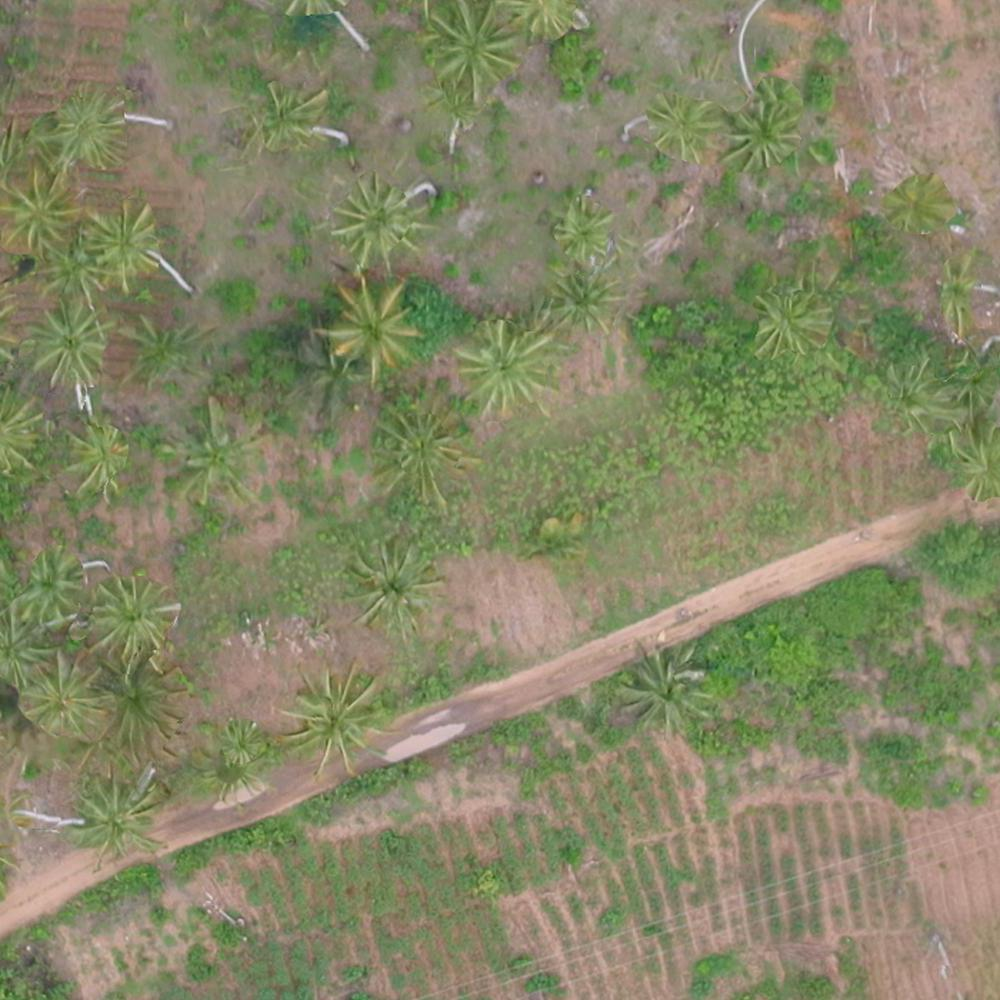Palm: (277, 673, 377, 774), (412, 1, 520, 93), (369, 400, 467, 499), (319, 283, 420, 375), (84, 664, 182, 758), (457, 323, 553, 411), (334, 177, 428, 263), (620, 638, 707, 729), (172, 410, 260, 499), (348, 547, 434, 635), (71, 773, 157, 860), (26, 300, 110, 386), (21, 659, 100, 748), (90, 578, 170, 663), (84, 204, 160, 283), (5, 171, 78, 249), (755, 289, 833, 361), (64, 419, 138, 491), (49, 96, 120, 169), (541, 265, 614, 331), (25, 550, 92, 618), (647, 93, 714, 161), (544, 200, 613, 264), (253, 82, 320, 146), (730, 101, 799, 163)
